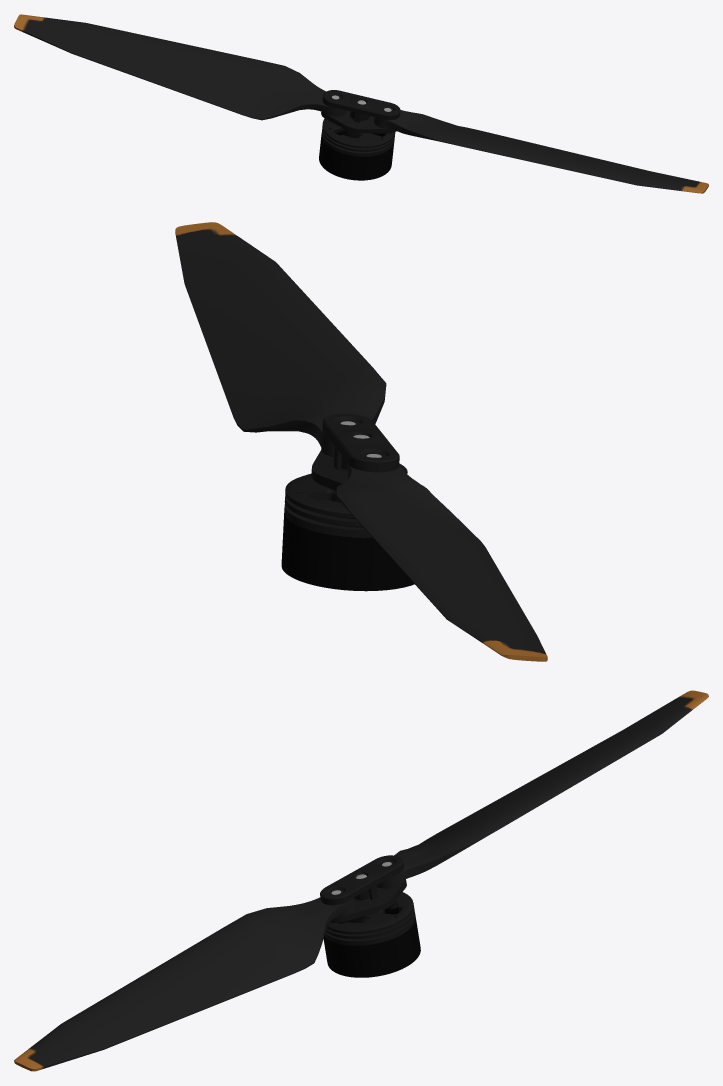
File: motor_rb.dae
The picture shows the model from 3 angles, top to bottom: view 1: azimuth 30°, elevation 25°; view 2: azimuth 150°, elevation 25°; view 3: azimuth 270°, elevation 25°; orthographic projection. The views are drawn at different scales.
Visible parts, largest first — view 1: Blade4_10.001, Blade4_09.001, Blade4_08.001, Blade4_01.001, Blade4_04.001, Blade4_03.001, Blade4_02.001; view 2: Blade4_09.001, Blade4_10.001, Blade4_01.001, Blade4_08.001, Blade4_04.001, Blade4_03.001; view 3: Blade4_09.001, Blade4_10.001, Blade4_08.001, Blade4_01.001, Blade4_04.001, Blade4_03.001.
Part boxes in pixels (x1=…): Blade4_10.001: x1=14, y1=14, x2=346, y2=120; Blade4_09.001: x1=374, y1=110, x2=708, y2=193; Blade4_08.001: x1=321, y1=90, x2=400, y2=138; Blade4_01.001: x1=319, y1=131, x2=393, y2=180; Blade4_04.001: x1=322, y1=118, x2=395, y2=148; Blade4_03.001: x1=321, y1=131, x2=394, y2=156; Blade4_02.001: x1=322, y1=126, x2=394, y2=151; Blade4_09.001: x1=175, y1=222, x2=386, y2=455; Blade4_10.001: x1=336, y1=464, x2=547, y2=661; Blade4_01.001: x1=281, y1=513, x2=414, y2=591; Blade4_08.001: x1=311, y1=413, x2=407, y2=502; Blade4_04.001: x1=285, y1=474, x2=429, y2=518; Blade4_03.001: x1=284, y1=503, x2=372, y2=537; Blade4_09.001: x1=14, y1=897, x2=355, y2=1071; Blade4_10.001: x1=376, y1=690, x2=708, y2=887; Blade4_08.001: x1=320, y1=855, x2=406, y2=922; Blade4_01.001: x1=323, y1=907, x2=420, y2=977; Blade4_04.001: x1=327, y1=892, x2=413, y2=934; Blade4_03.001: x1=324, y1=912, x2=415, y2=945.
Size of the model in its own units: 0.1668 by 0.1771 by 0.0388.
Materials: 1 (1 with a texture image).
